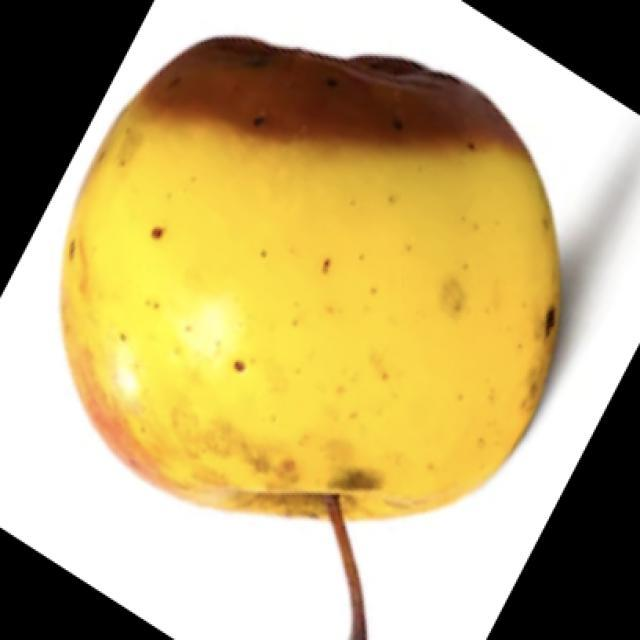Rotten: (40, 16, 552, 516)
